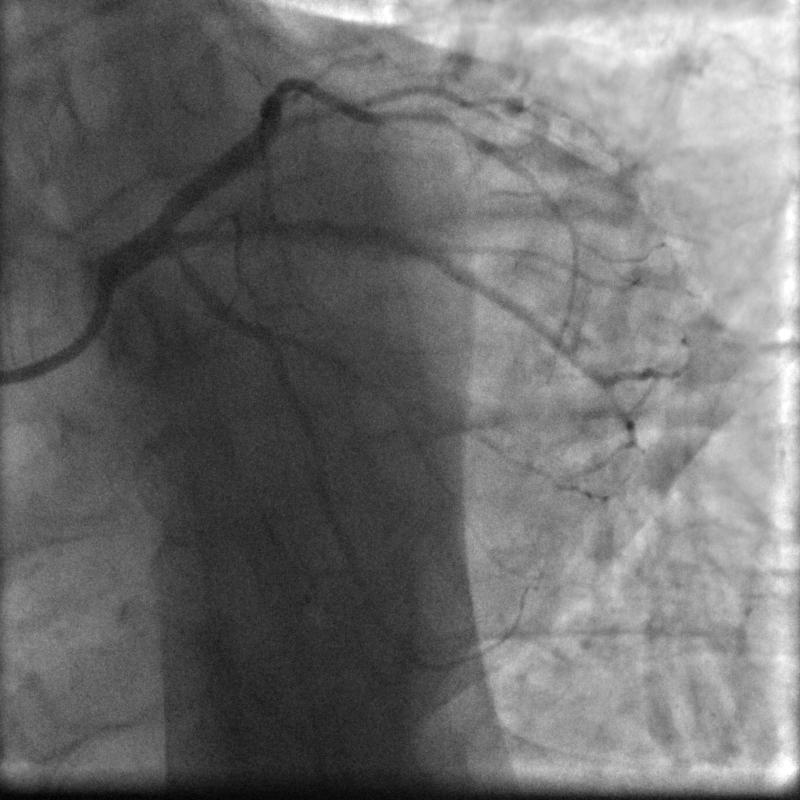Stenosis: (263, 73, 317, 100)
